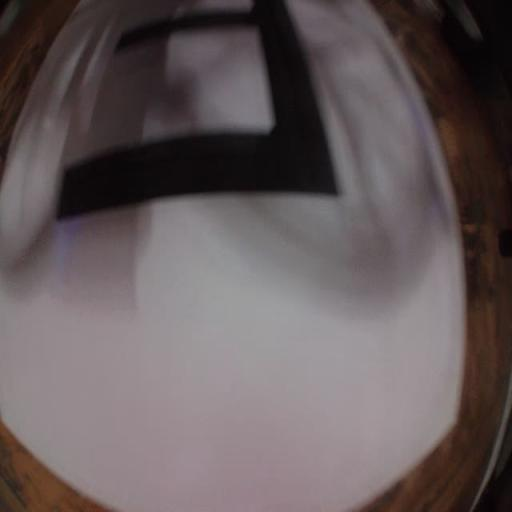E: (56, 0, 344, 220)
